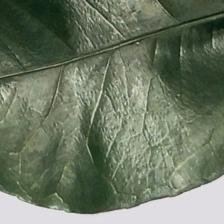healthy: (3, 1, 224, 224)
